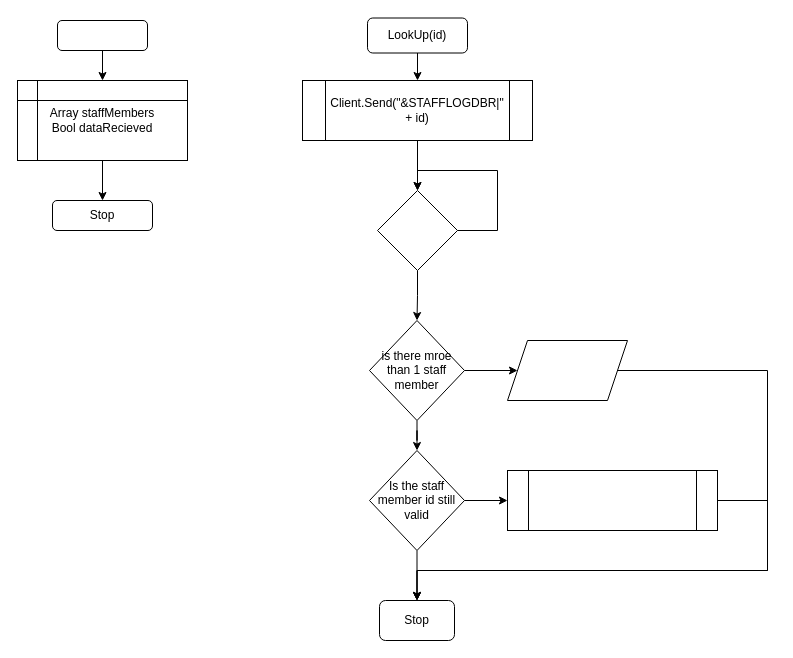
Image size: 793x658. Some labels were removed from this diagram. Each missing label, with the centre of its shape:
"Is dataRecieved == True" goes at (x=417, y=230).
"Output Error" goes at (x=567, y=370).
"PosController.staffMember == staffMembers[0]" goes at (x=612, y=500).
"Start" goes at (x=102, y=35).
